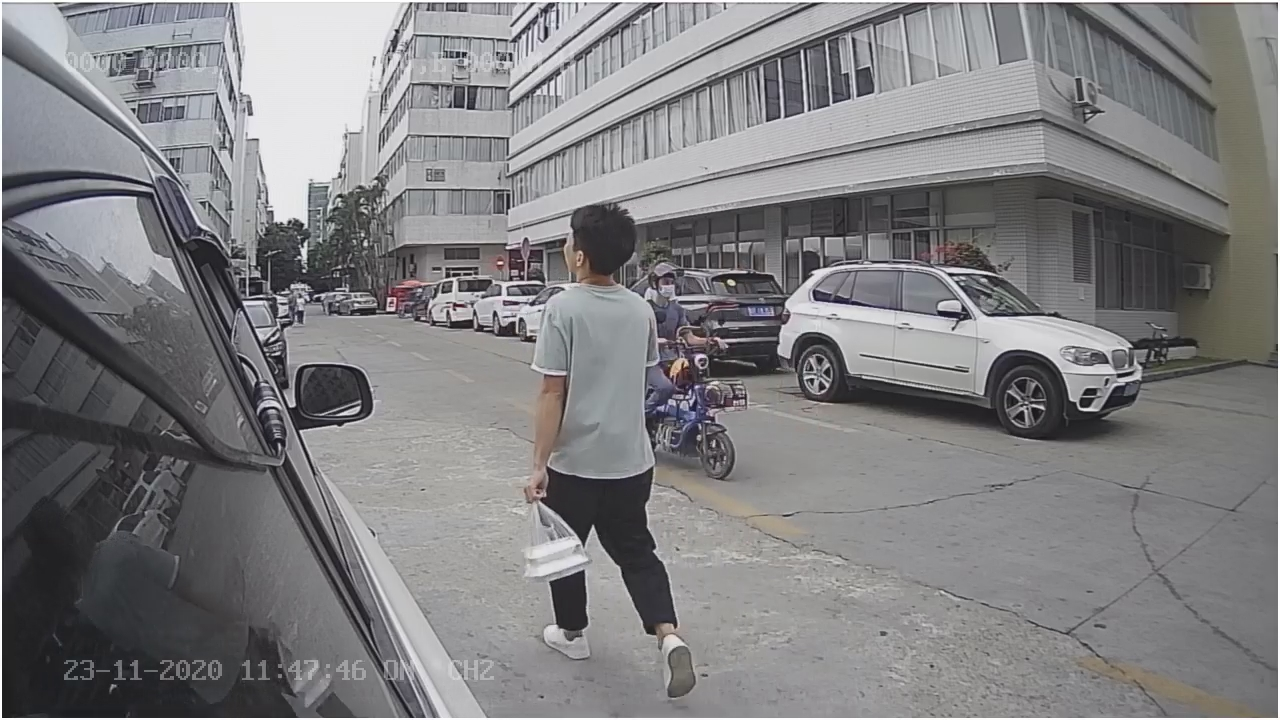person: (522, 192, 699, 701)
